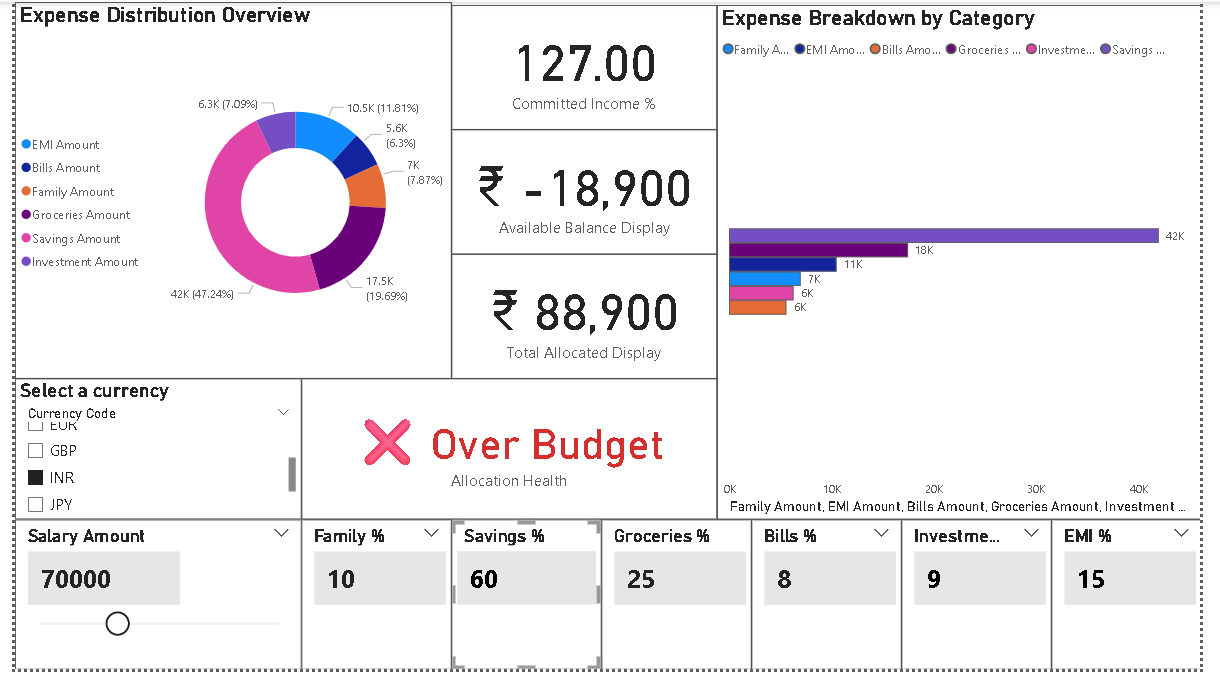

This screenshot's page, from the dashboard's own definition file:
{"tool":"powerbi","page":{"name":"Page 1","canvas":[1280,720],"ordinal":0},"visuals":[{"type":"slicer","title":"EMI%","fields":{"Values":["EMI %.EMI %"]},"box":[1118.9,558.6,161.9,161.9],"z":0},{"type":"slicer","fields":{"Values":["Savings %.Savings %"]},"box":[471.2,558.6,161.9,161.9],"z":1000},{"type":"slicer","fields":{"Values":["Investment %.Investment %"]},"box":[957,558.6,161.9,161.9],"z":2000},{"type":"slicer","fields":{"Values":["Groceries %.Groceries %"]},"box":[633.1,558.6,161.9,161.9],"z":3000},{"type":"slicer","fields":{"Values":["Bills %.Bills %"]},"box":[795,558.6,161.9,161.9],"z":4000},{"type":"slicer","fields":{"Values":["Family %.Family %"]},"box":[309.3,558.6,161.9,161.9],"z":5000},{"type":"slicer","fields":{"Values":["Salary Amount.Salary Amount"]},"box":[0,558.6,309.3,161.9],"z":6000},{"type":"card","fields":{"Values":["Currency.Committed Income %"]},"box":[471.2,3.2,286.6,134.4],"z":7000},{"type":"donutChart","title":"Expense Distribution Overview","fields":{"Y":["EMI %.EMI Amount","Bills %.Bills Amount","Family %.Family Amount","Groceries %.Groceries Amount","Salary Amount.Savings Amount","Investment %.Investment Amount"]},"box":[0,0,471.2,406.4],"z":9000},{"type":"clusteredBarChart","title":"Expense Breakdown by Category","fields":{"Y":["Family %.Family Amount","EMI %.EMI Amount","Bills %.Bills Amount","Groceries %.Groceries Amount","Investment %.Investment Amount","Salary Amount.Savings Amount"]},"box":[757.8,3.2,523,555.4],"z":10000},{"type":"slicer","title":"Select a currency","fields":{"Values":["Table.Currency Code Currency Name     | RateToINR | Symbol |"]},"box":[0,406.4,309.3,152.2],"z":10001},{"type":"card","fields":{"Values":["Currency.Total Allocated Display"]},"box":[471.2,272,286.6,134.4],"z":10002},{"type":"card","fields":{"Values":["Currency.Available Balance Display"]},"box":[471.2,137.6,286.6,134.4],"z":10003},{"type":"card","fields":{"Values":["Currency.Allocation Health"]},"box":[309.3,406.4,448.5,152.2],"z":10004}]}

Visuals, with their boxes in screenshot pixels (x1, y1, x2, y2), scaled from the page's 1280x720 canvas onto the 1220x680 screenshot:
"EMI%" slicer: <bbox>1066, 528, 1219, 679</bbox>
slicer - Savings %.Savings %: <bbox>449, 528, 603, 679</bbox>
slicer - Investment %.Investment %: <bbox>912, 528, 1066, 679</bbox>
slicer - Groceries %.Groceries %: <bbox>603, 528, 758, 679</bbox>
slicer - Bills %.Bills %: <bbox>758, 528, 912, 679</bbox>
slicer - Family %.Family %: <bbox>295, 528, 449, 679</bbox>
slicer - Salary Amount.Salary Amount: <bbox>0, 528, 295, 679</bbox>
card - Currency.Committed Income %: <bbox>449, 3, 722, 130</bbox>
"Expense Distribution Overview" donutChart: <bbox>0, 0, 449, 384</bbox>
"Expense Breakdown by Category" clusteredBarChart: <bbox>722, 3, 1219, 528</bbox>
"Select a currency" slicer: <bbox>0, 384, 295, 528</bbox>
card - Currency.Total Allocated Display: <bbox>449, 257, 722, 384</bbox>
card - Currency.Available Balance Display: <bbox>449, 130, 722, 257</bbox>
card - Currency.Allocation Health: <bbox>295, 384, 722, 528</bbox>
